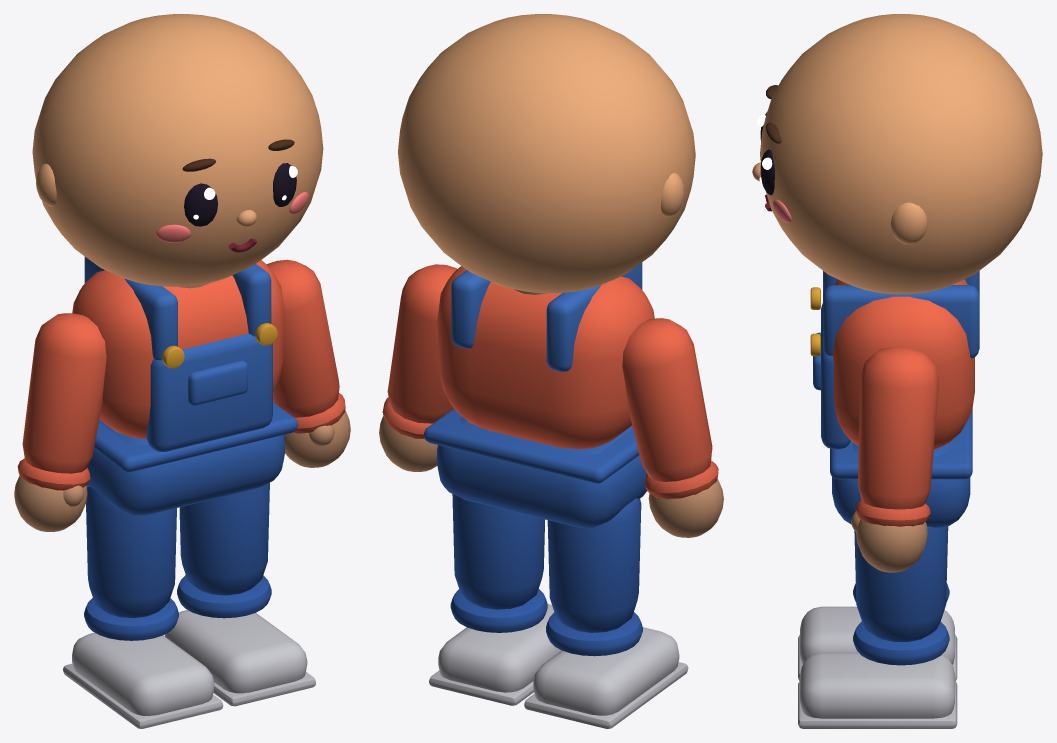
File: body_adult_overalls.glb
3 views of the same model, side by side, from view 1: azimuth 30°, elevation 25°; view 2: azimuth 150°, elevation 25°; view 3: azimuth 270°, elevation 25° (orthographic). The views are drawn at different scales.
Parts seen in each view (by area): view 1: Head, Torso, LegR, LegL, ArmR, Hips, ArmL; view 2: Head, Torso, LegR, LegL, Hips, ArmR, ArmL; view 3: Head, LegL, Torso, ArmL, Hips, LegR.
Part boxes in pixels (<box>): Head: <box>32,14,323,286</box>; Torso: <box>72,256,284,451</box>; LegR: <box>63,486,223,728</box>; LegL: <box>164,482,315,706</box>; ArmR: <box>14,313,106,531</box>; Hips: <box>86,402,297,515</box>; ArmL: <box>267,259,350,467</box>; Head: <box>398,14,695,293</box>; Torso: <box>437,262,654,449</box>; LegR: <box>524,498,688,728</box>; LegL: <box>429,494,561,705</box>; Hips: <box>424,408,646,527</box>; ArmR: <box>622,318,723,537</box>; ArmL: <box>379,264,457,471</box>; Head: <box>752,14,1042,294</box>; LegL: <box>798,526,957,728</box>; Torso: <box>810,271,979,449</box>; ArmL: <box>851,346,939,572</box>; Hips: <box>830,408,972,527</box>; LegR: <box>798,583,957,680</box>.
Size of the model in its own units: 0.7408 by 1.4 by 0.5599.
